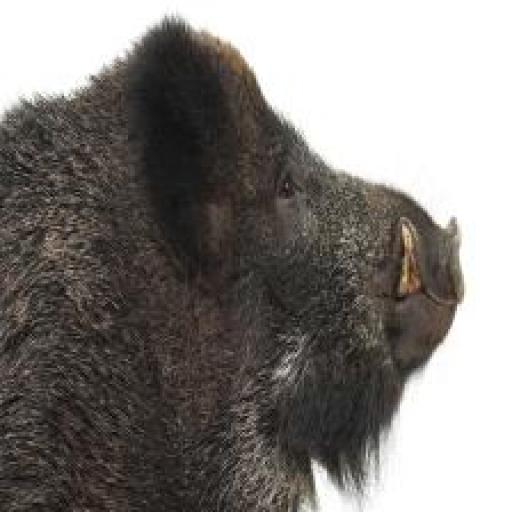Pig: (0, 13, 464, 512)
